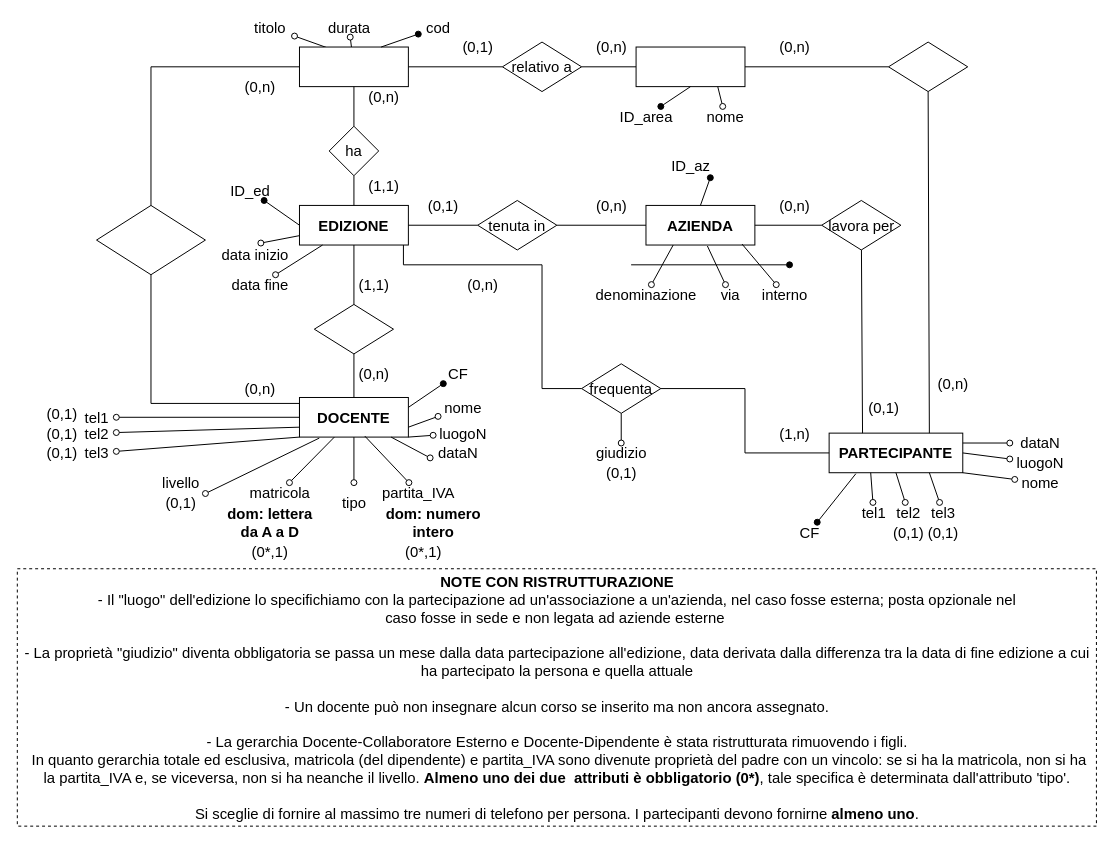
Image size: 1114x843. Some labels were removed from this diagram. The box of each missing label's shape, as (x1, y1, x2, y2) in pixels:
AREA: (635, 46, 745, 87)
CORSO: (298, 46, 408, 87)
ha tenuto: (313, 303, 394, 354)
interessa: (888, 41, 968, 92)
può insegnare: (96, 204, 205, 275)
